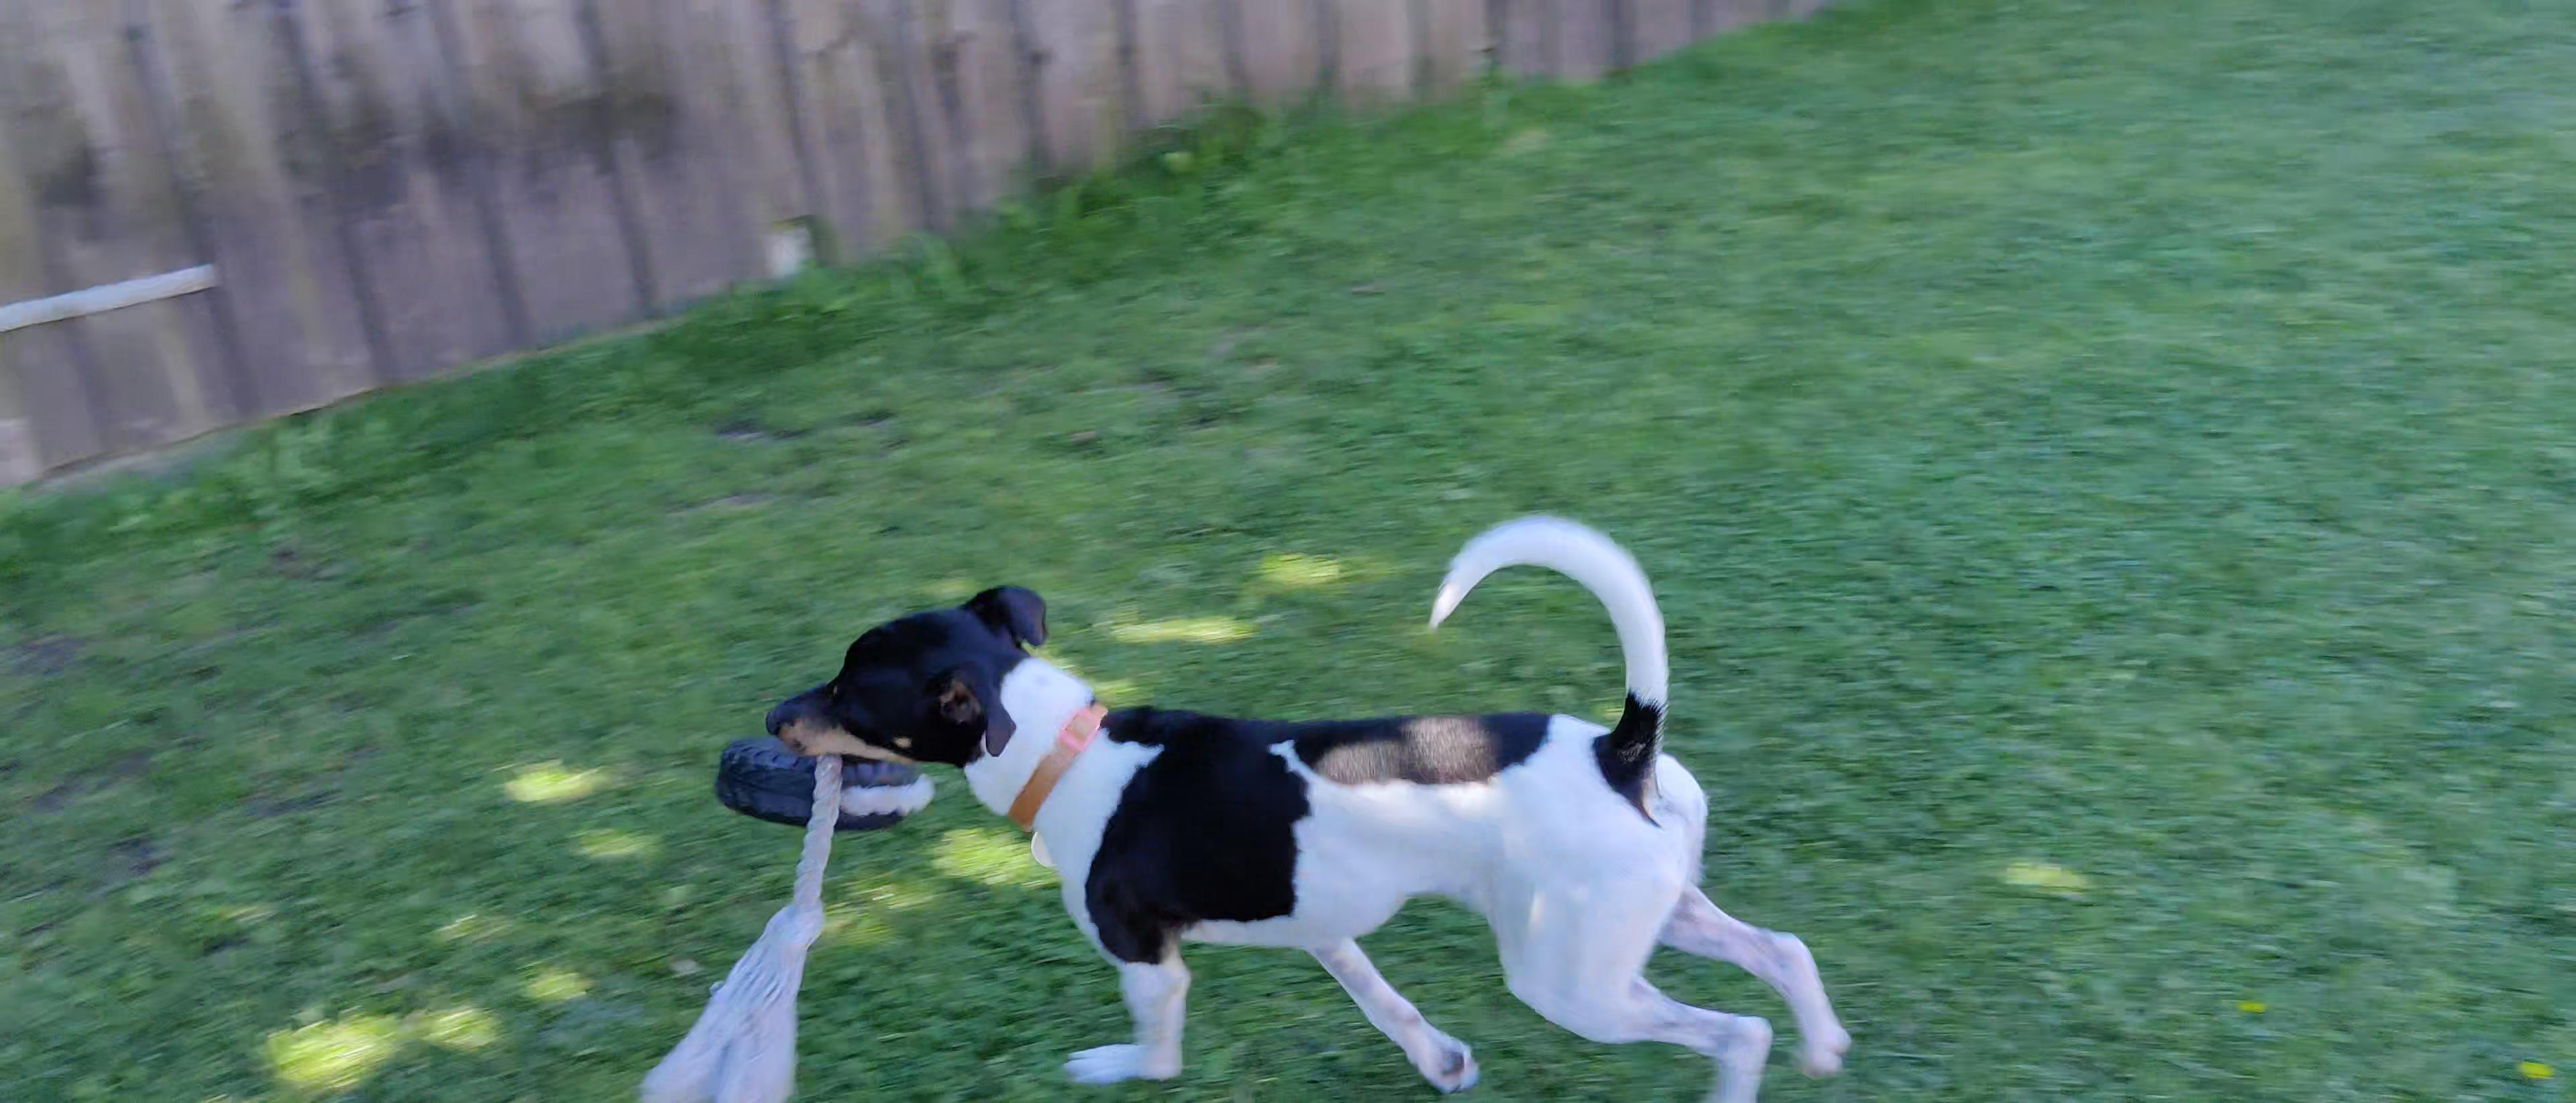Dog: (746, 490, 1881, 1103)
